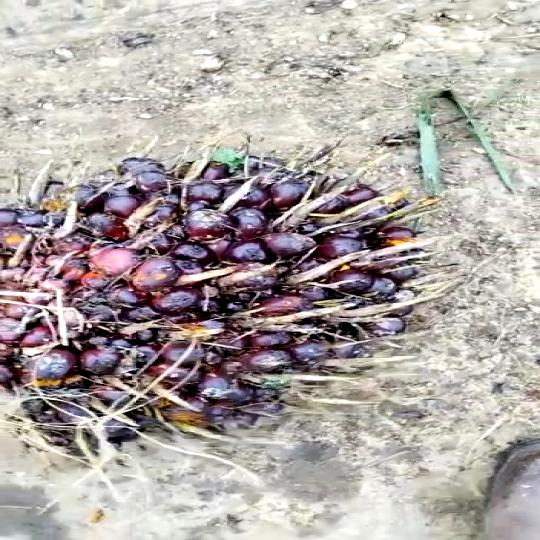kurang masak: (0, 152, 479, 461)
